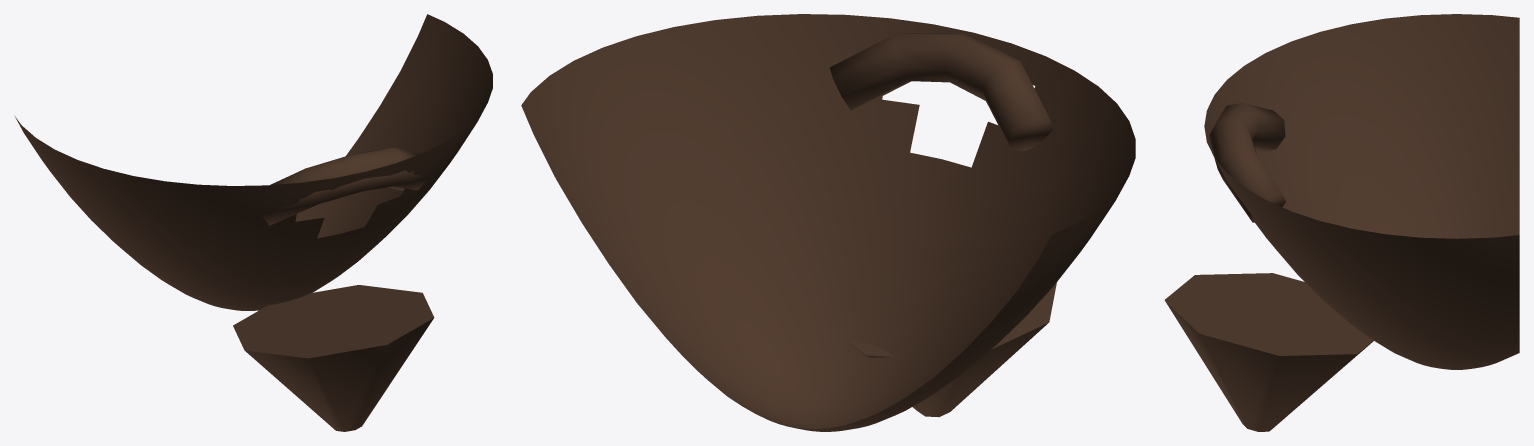
The model's file is beard_beard.fbx.
3 views of the same model, side by side, from view 1: azimuth 30°, elevation 25°; view 2: azimuth 150°, elevation 25°; view 3: azimuth 270°, elevation 25° (orthographic). The views are drawn at different scales.
Visible parts, largest first — view 1: beard_beard; view 2: beard_beard; view 3: beard_beard.
Boxes of the visible parts, box(x1,y1,x2,y2) form: beard_beard: box(15, 14, 492, 431); beard_beard: box(521, 14, 1135, 431); beard_beard: box(1164, 14, 1519, 431).
Size of the model in its own units: 0.2755 by 0.1752 by 0.1839.
